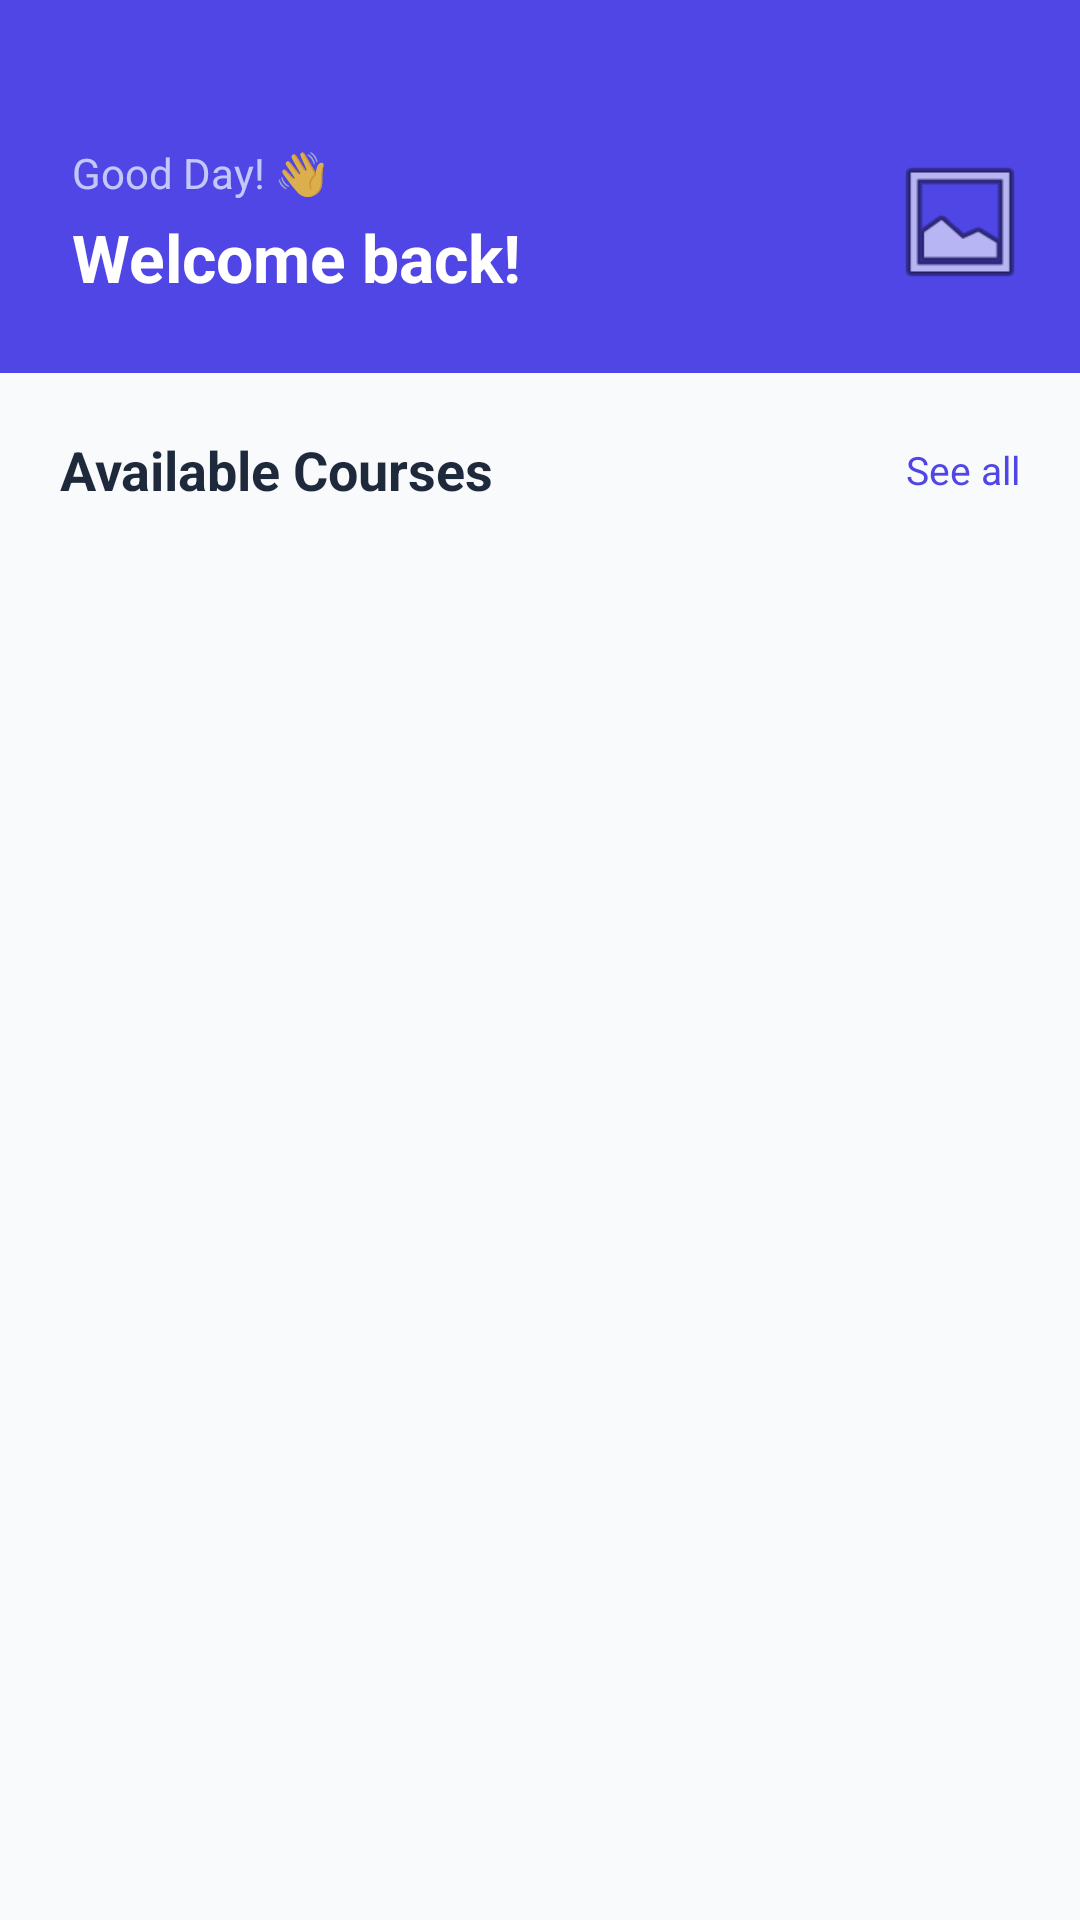

Icon bounding boxes for this 1080×1920 phone screenshot, format (x1, y1, x2, y2):
gallery: (906, 168, 1014, 276)
